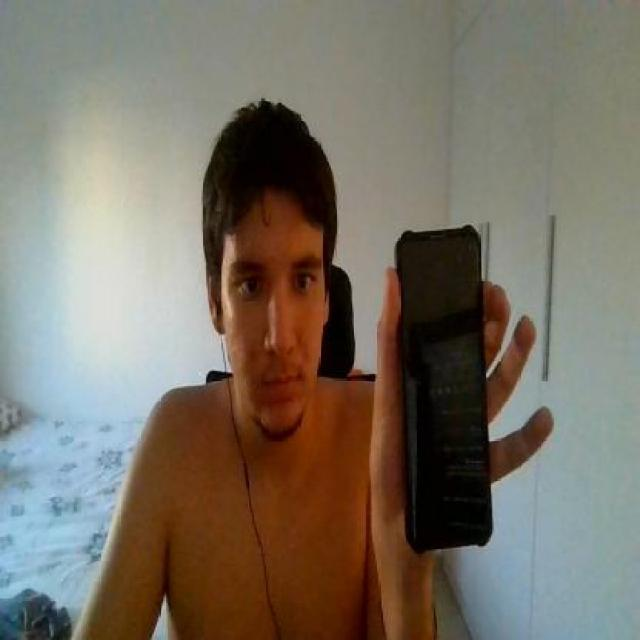phone: (397, 230, 494, 546)
